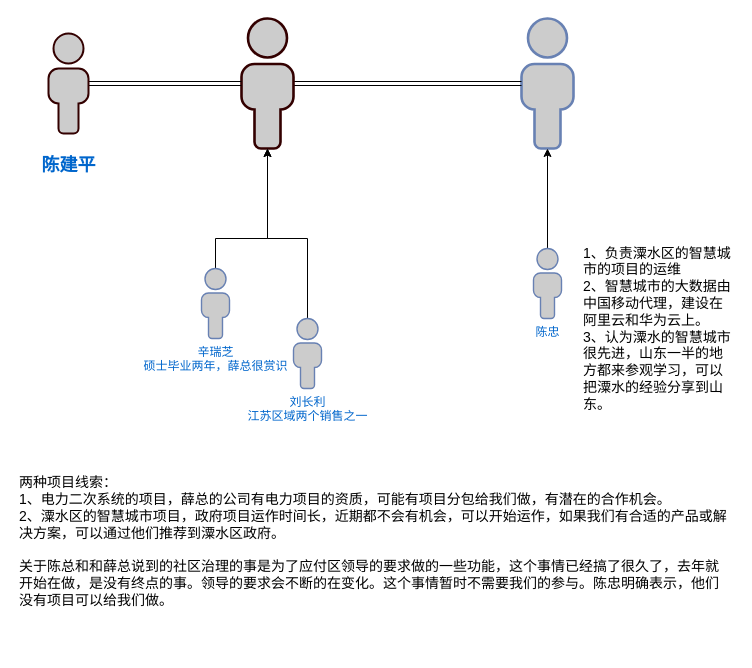
The diagram is 752 pixels wide and 668 high, and some of its shapes have lost their labels. The shapes that lost their labels are listed below. From the top down, each one's centre as x and y in pixels, then its label:
At point 267,83: "薛总（全国市场负责人） 山东电工电气集团新能科技有限公司".
At point 547,83: "陈筛金（法人） 江苏万阳电力科技有限公司".
